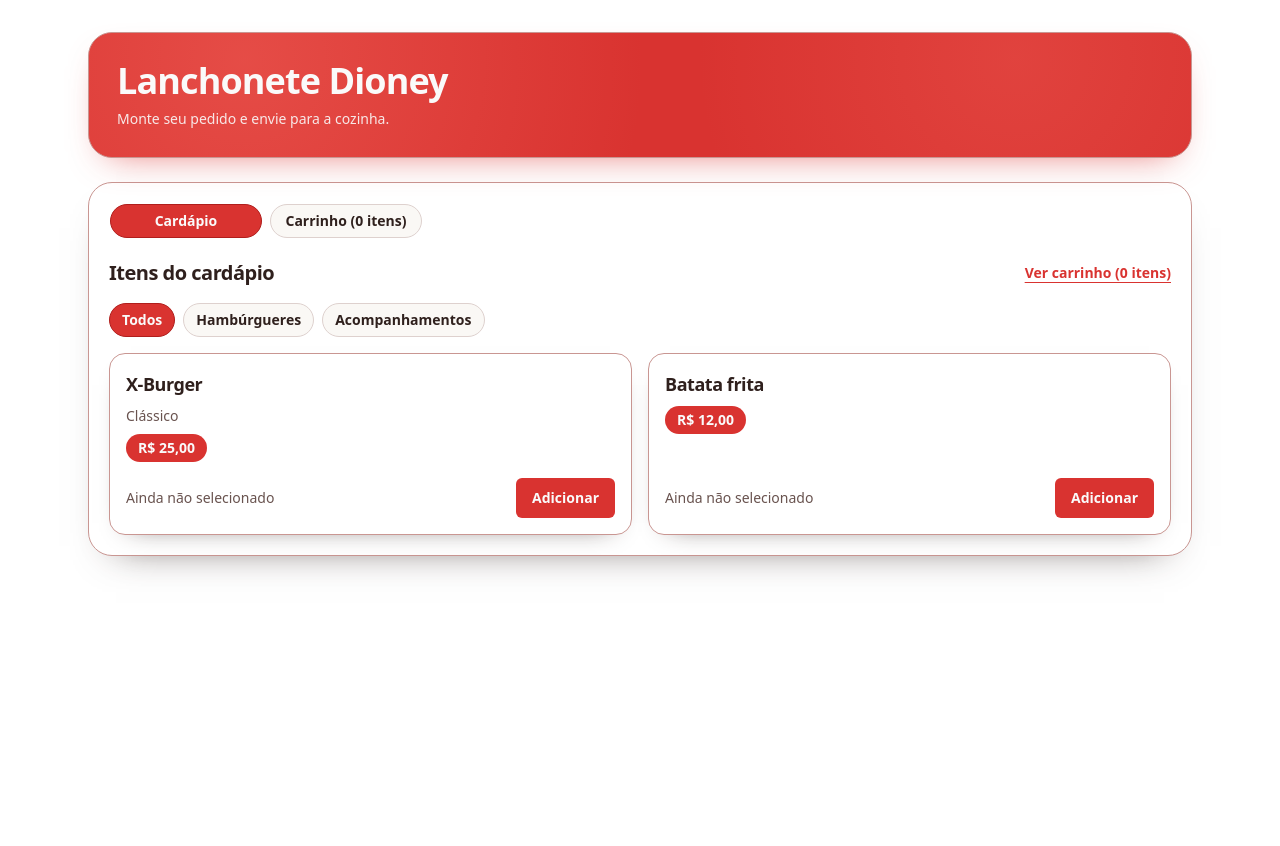
CustomerOrderPage (Customer Order Submission) › navigates to the order summary tab via the 'X itens' link (brief: quick access to summary)
Click the 1st button "Adicionar" at (566,498), box [516,478,615,518]
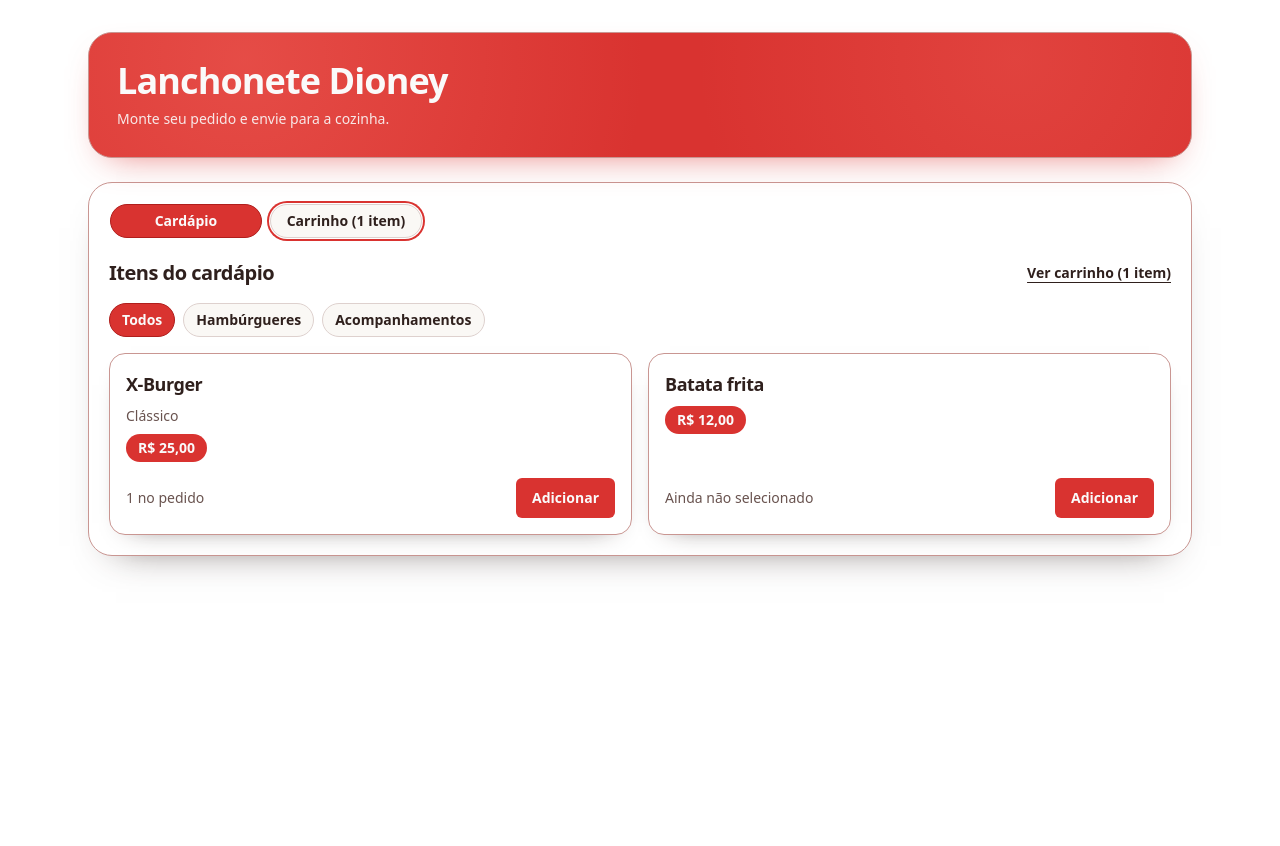
Click the button "Ver carrinho (1 item)" at (1099,273), box [1027,263,1171,283]
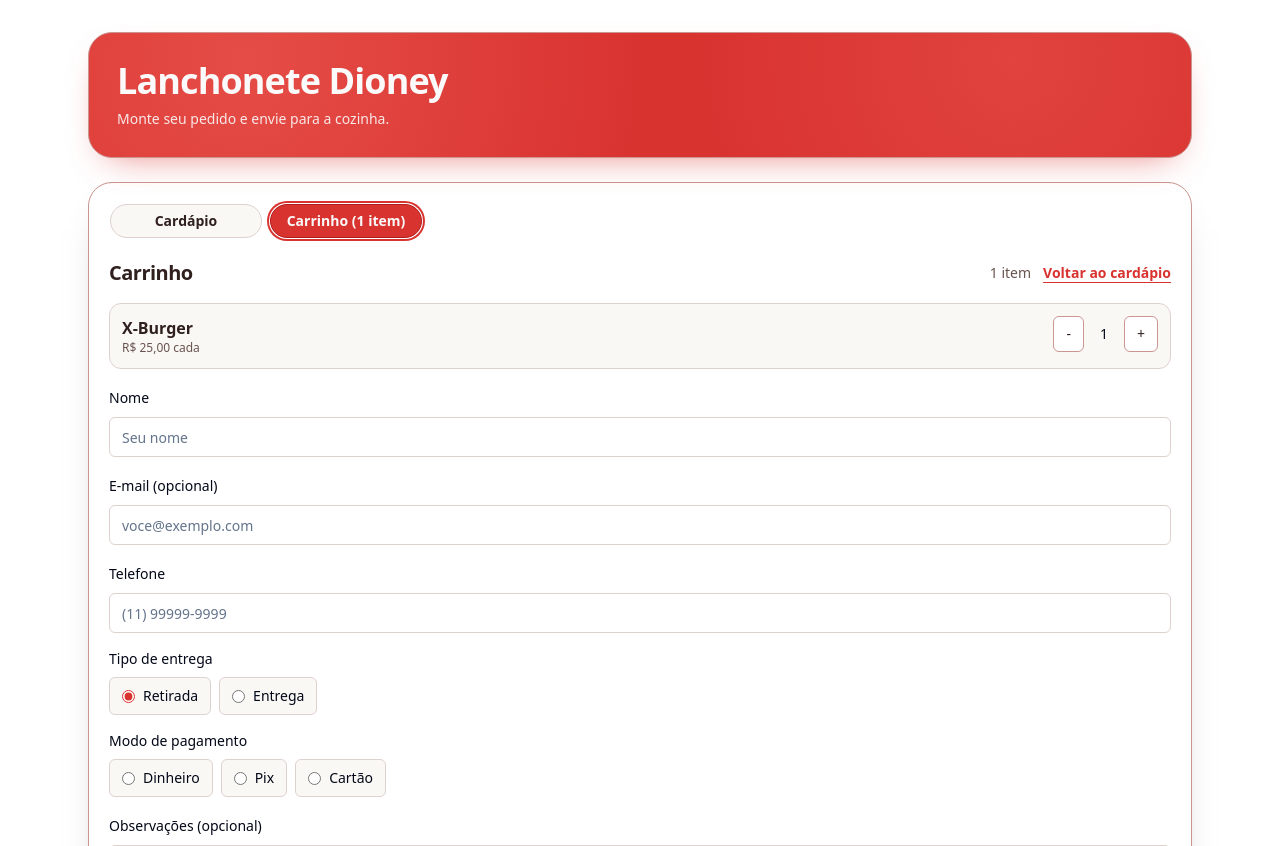
Expected: the heading "Carrinho" is shown, [109,259,193,287]
Expected: the button "Voltar ao cardápio" is shown, [1043,263,1171,283]
